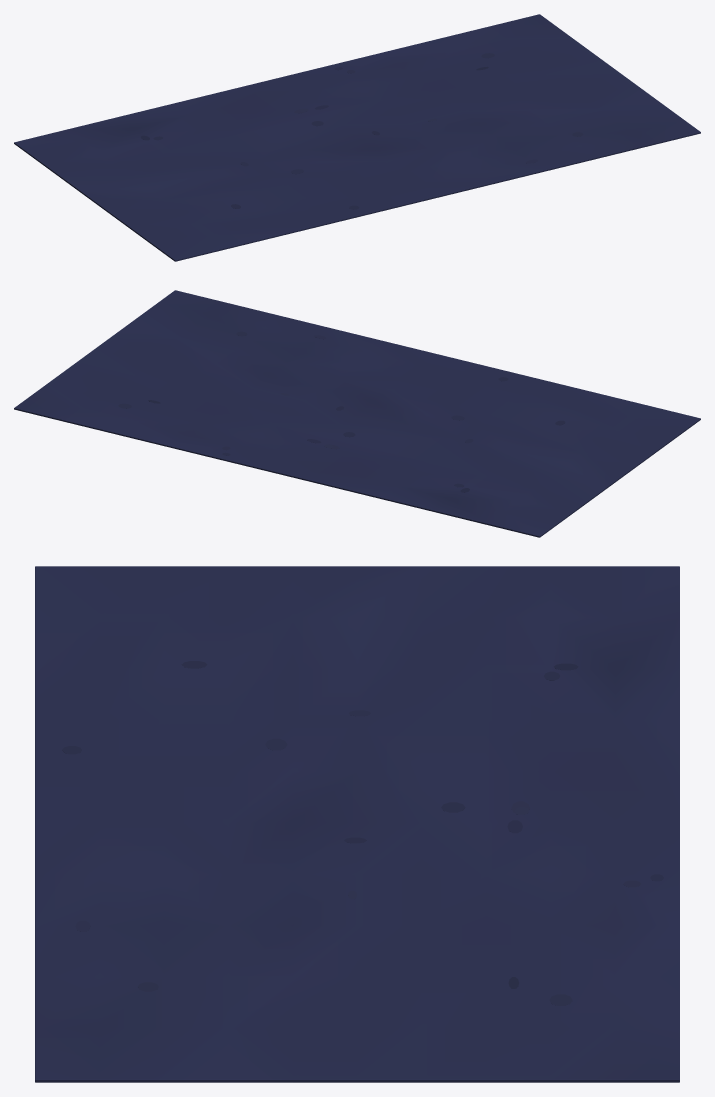
File: SM_City_Ground.fbx
The picture shows the model from 3 angles, top to bottom: view 1: azimuth 30°, elevation 25°; view 2: azimuth 150°, elevation 25°; view 3: azimuth 270°, elevation 25°; orthographic projection. The views are drawn at different scales.
Visible parts, largest first — view 1: SM_City_Ground; view 2: SM_City_Ground; view 3: SM_City_Ground.
Part boxes in pixels (x1,y1,x2,y2): SM_City_Ground: (14, 14, 700, 261); SM_City_Ground: (14, 290, 700, 537); SM_City_Ground: (35, 566, 679, 1082).
Bounding box in the file's own units: 11300 × 30.57 × 6000.
